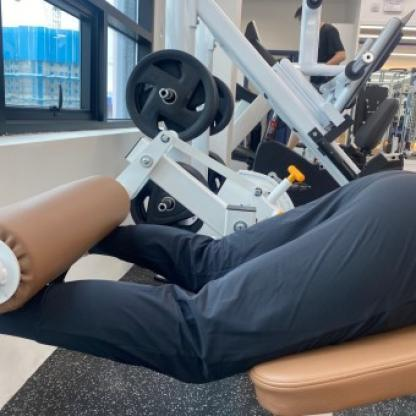reg curl machine: (0, 124, 416, 416)
